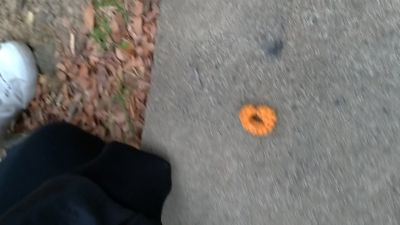eggs: (238, 104, 278, 137)
